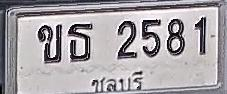1: (194, 16, 206, 55)
2: (116, 20, 136, 59)
5: (141, 18, 161, 58)
8: (166, 18, 184, 56)
A02: (37, 23, 62, 63)
A24: (67, 23, 93, 62)
CBI: (88, 69, 146, 94)
